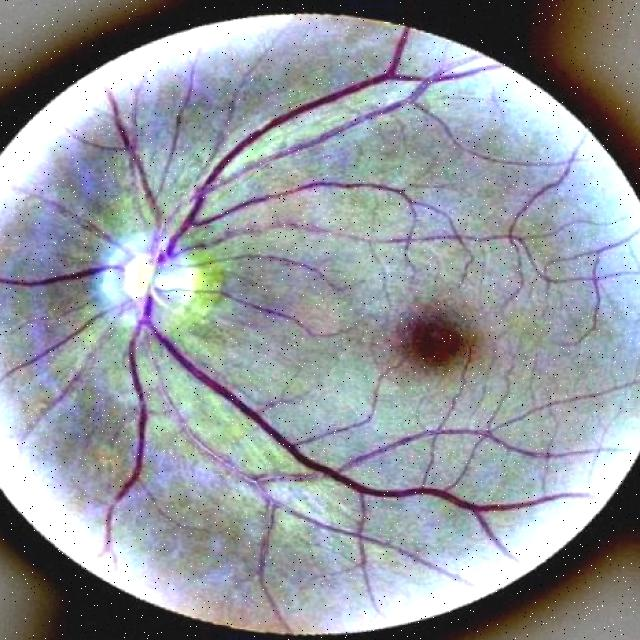Macula: (87, 57, 590, 564), (375, 299, 491, 397)
Optic Disk: (66, 203, 239, 371)
